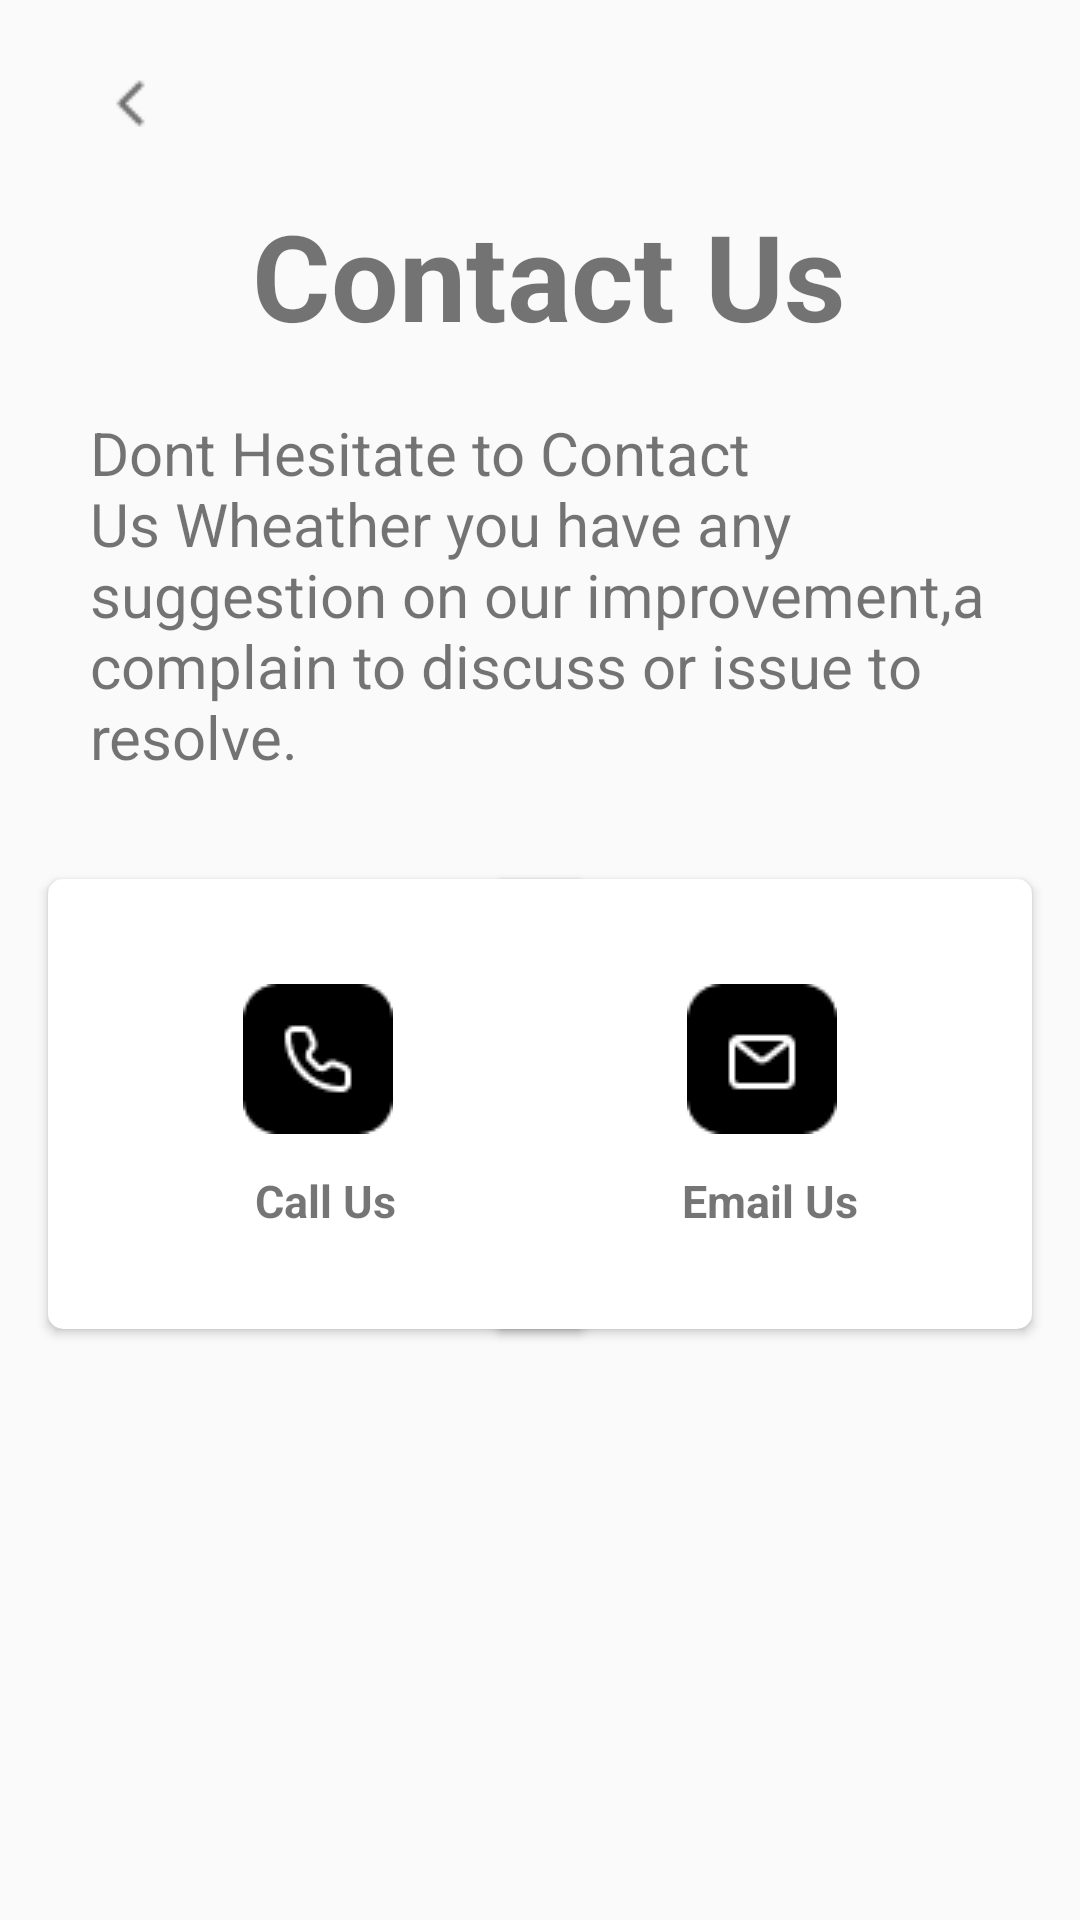

Icon bounding boxes for this 1080 × 1920 phone screenshot, format {"left": x1, "top": y1, "right": x2, "bottom": y2}:
back left arrow: {"left": 116, "top": 80, "right": 145, "bottom": 127}
phone: {"left": 243, "top": 984, "right": 393, "bottom": 1134}
